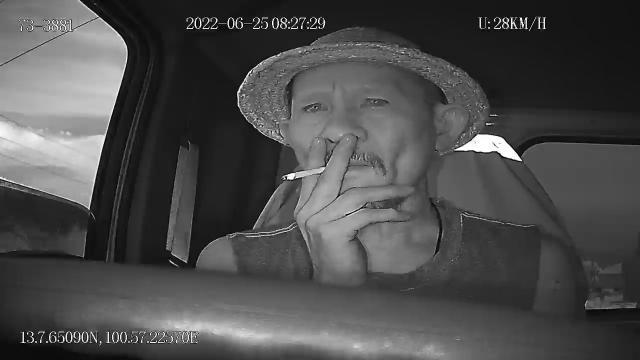SafeDriving: (354, 88, 396, 112), (297, 94, 332, 117)
Smoking: (278, 167, 328, 179)
